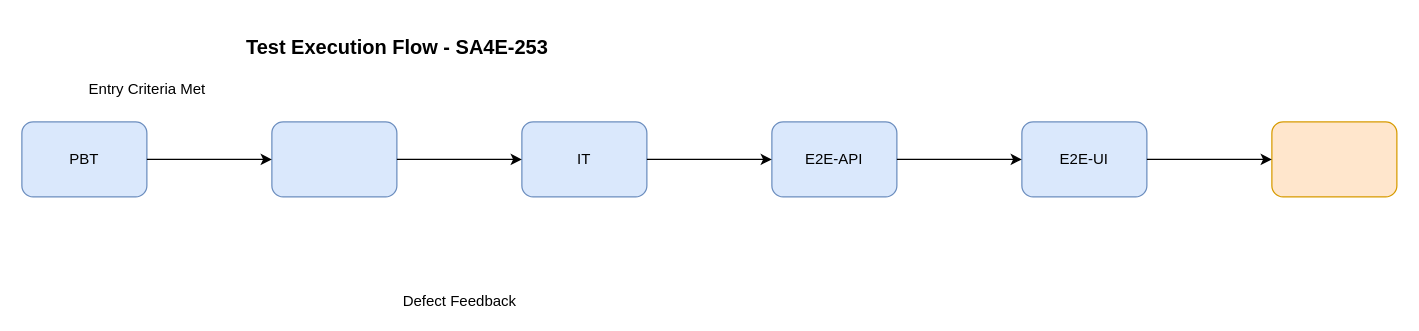
This 1419x331 diagram has some shape labels left out. Each missing label, with the centre of its shape:
SIT: the point at 1334,159
UT: the point at 334,159
